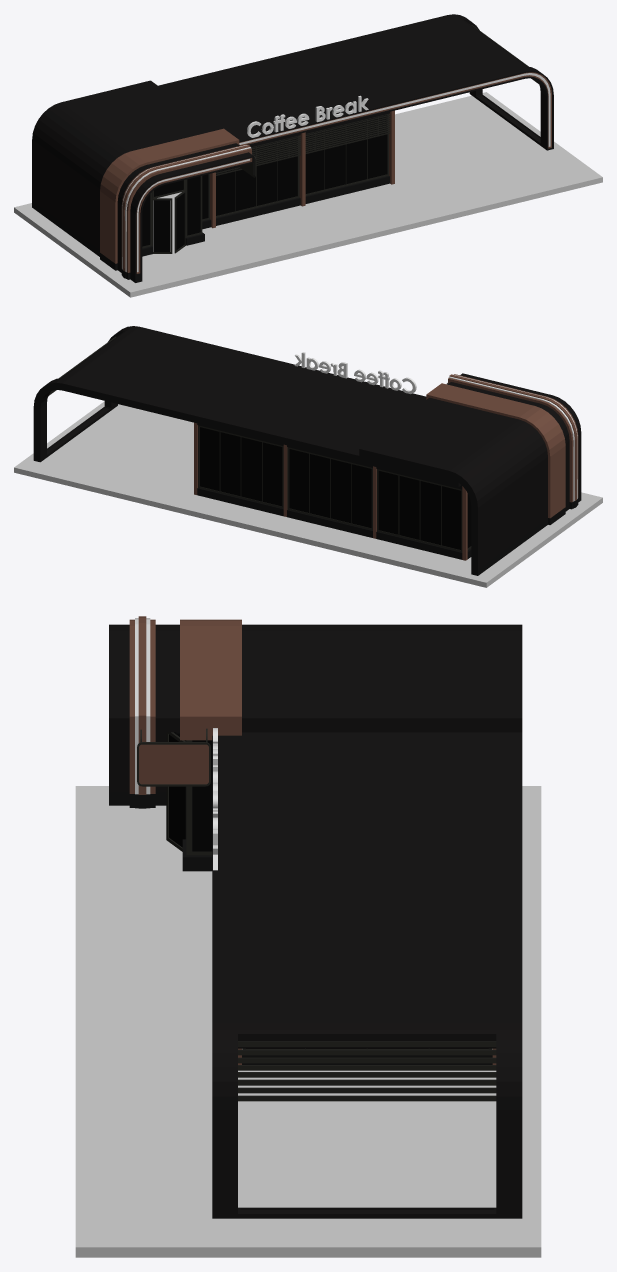
File: Bar.obj
The picture shows the model from 3 angles, top to bottom: view 1: azimuth 30°, elevation 25°; view 2: azimuth 150°, elevation 25°; view 3: azimuth 270°, elevation 25°; orthographic projection. The views are drawn at different scales.
Visible parts, largest first — view 1: coffee_house00_Concrete_ZigZag_Interlok_Tiles_-_Aged.008, coffee_house07__Black.064, coffee_house06__Black.064, coffee_house27_glass.039, coffee_house09_Material_#27.008, coffee_house04.001_aluminum2.008, coffee_house03__Black.063, coffee_house26_aluminum2.008, coffee_house08_Material_#27.008, Text__White.053, coffee_house15_Material_#27.008, coffee_house02_Material_#27.008 (+7 smaller); view 2: coffee_house07__Black.064, coffee_house00_Concrete_ZigZag_Interlok_Tiles_-_Aged.008, coffee_house06__Black.064, coffee_house27_glass.039, coffee_house09_Material_#27.008, coffee_house03__Black.063, coffee_house04.001_aluminum2.008, coffee_house02_Material_#27.008, Text__White.053, coffee_house08_Material_#27.008, coffee_house22__Black.063, coffee_house04.002_aluminum2.008 (+3 smaller); view 3: coffee_house00_Concrete_ZigZag_Interlok_Tiles_-_Aged.008, coffee_house07__Black.064, coffee_house06__Black.064, coffee_house18_aluminum2.008, coffee_house09_Material_#27.008, coffee_house21_Material_#27.008, coffee_house27_glass.039, coffee_house03__Black.063, coffee_house08_Material_#27.008, coffee_house13__White.053, coffee_house04.001_aluminum2.008, coffee_house12_Material_#27.008.
Part boxes in pixels (<box>): coffee_house00_Concrete_ZigZag_Interlok_Tiles_-_Aged.008: <box>14,92,602,297</box>; coffee_house07__Black.064: <box>158,14,553,150</box>; coffee_house06__Black.064: <box>32,80,253,276</box>; coffee_house27_glass.039: <box>142,115,387,252</box>; coffee_house09_Material_#27.008: <box>100,128,239,263</box>; coffee_house04.001_aluminum2.008: <box>142,113,388,253</box>; coffee_house03__Black.063: <box>142,176,389,256</box>; coffee_house26_aluminum2.008: <box>305,114,390,153</box>; coffee_house08_Material_#27.008: <box>121,144,251,272</box>; Text__White.053: <box>247,95,368,137</box>; coffee_house15_Material_#27.008: <box>239,72,551,148</box>; coffee_house02_Material_#27.008: <box>210,110,394,228</box>; coffee_house07__Black.064: <box>33,326,460,486</box>; coffee_house00_Concrete_ZigZag_Interlok_Tiles_-_Aged.008: <box>14,401,602,587</box>; coffee_house06__Black.064: <box>359,373,581,568</box>; coffee_house27_glass.039: <box>200,427,471,549</box>; coffee_house09_Material_#27.008: <box>426,383,565,518</box>; coffee_house03__Black.063: <box>197,488,471,559</box>; coffee_house04.001_aluminum2.008: <box>198,425,471,552</box>; coffee_house02_Material_#27.008: <box>194,422,467,560</box>; Text__White.053: <box>294,352,416,394</box>; coffee_house08_Material_#27.008: <box>448,374,578,502</box>; coffee_house22__Black.063: <box>471,494,581,575</box>; coffee_house04.002_aluminum2.008: <box>219,431,441,545</box>; coffee_house00_Concrete_ZigZag_Interlok_Tiles_-_Aged.008: <box>75,786,541,1257</box>; coffee_house07__Black.064: <box>212,732,522,1218</box>; coffee_house06__Black.064: <box>109,624,522,791</box>; coffee_house18_aluminum2.008: <box>238,1041,496,1101</box>; coffee_house09_Material_#27.008: <box>180,619,241,740</box>; coffee_house21_Material_#27.008: <box>139,744,208,784</box>; coffee_house27_glass.039: <box>169,732,488,1048</box>; coffee_house03__Black.063: <box>182,839,492,1064</box>; coffee_house08_Material_#27.008: <box>129,619,155,793</box>; coffee_house13__White.053: <box>135,618,150,794</box>; coffee_house04.001_aluminum2.008: <box>166,732,492,1049</box>; coffee_house12_Material_#27.008: <box>138,616,146,794</box>.
Size of the model in its own units: 21.13 by 4.76 by 9.02.
